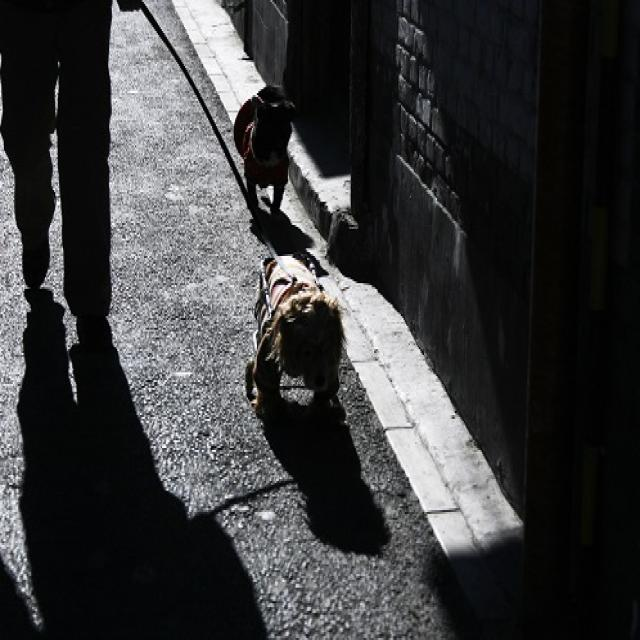Dog: (227, 72, 312, 245)
